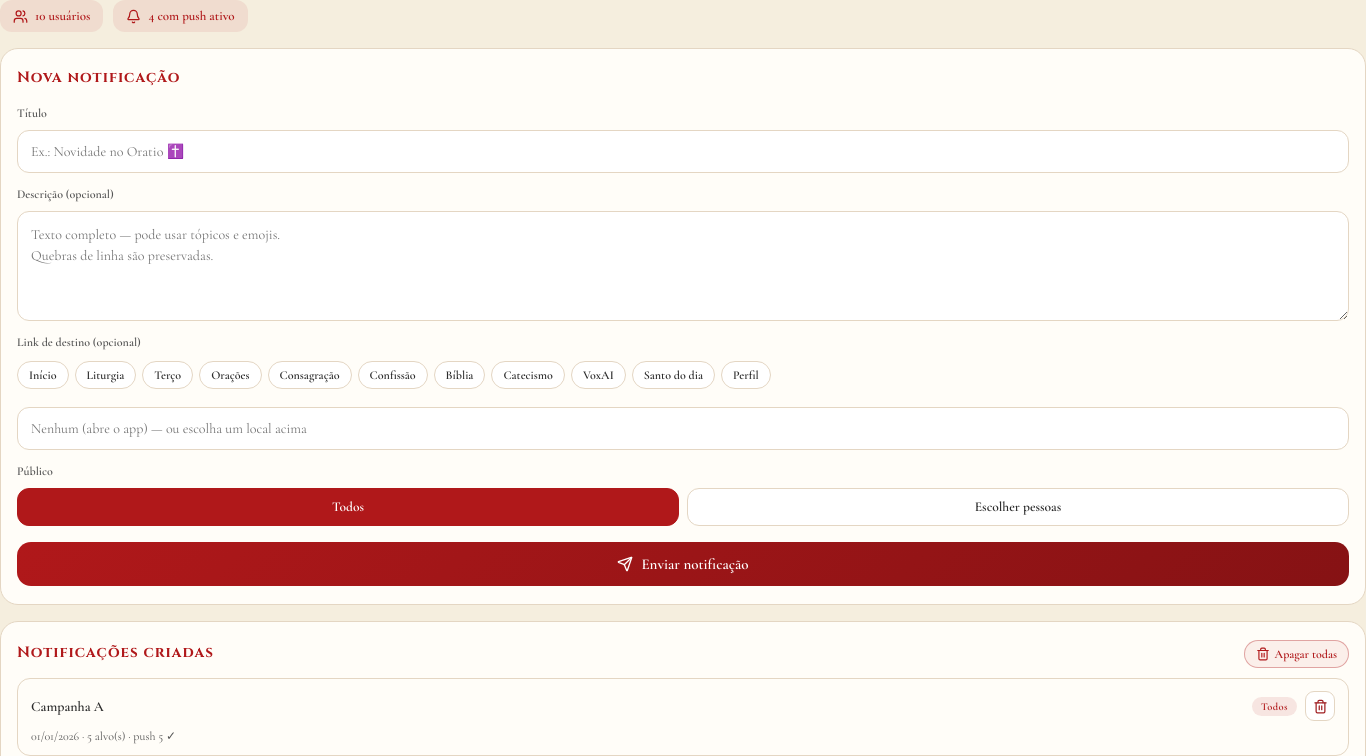
Scenario: AdminNotifications › deleting a campaign asks for confirmation and removes it from the list on confirm
Expected: the text "Campanha A" is shown, 31,698 -> 104,714
Click the button named "Apagar envio": click(1320, 706) 1305,691 -> 1335,721
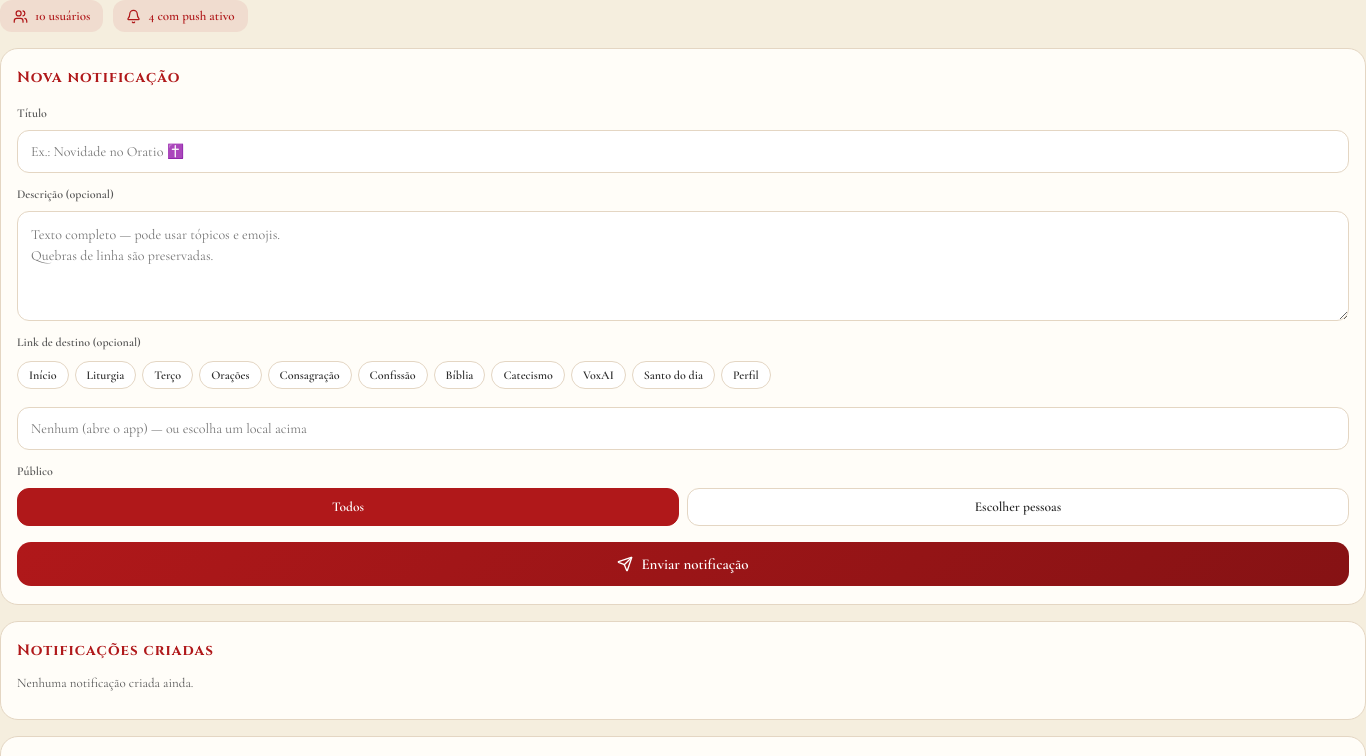
Now the text "Campanha A" is gone
